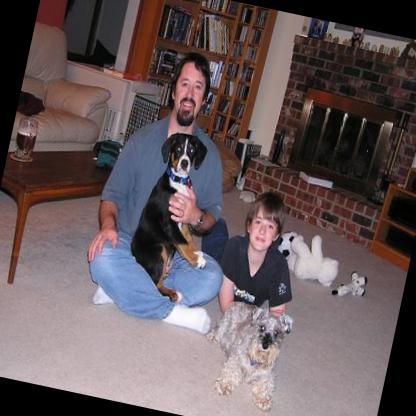Greater_Swiss_Mountain_dog: (117, 122, 231, 306)
